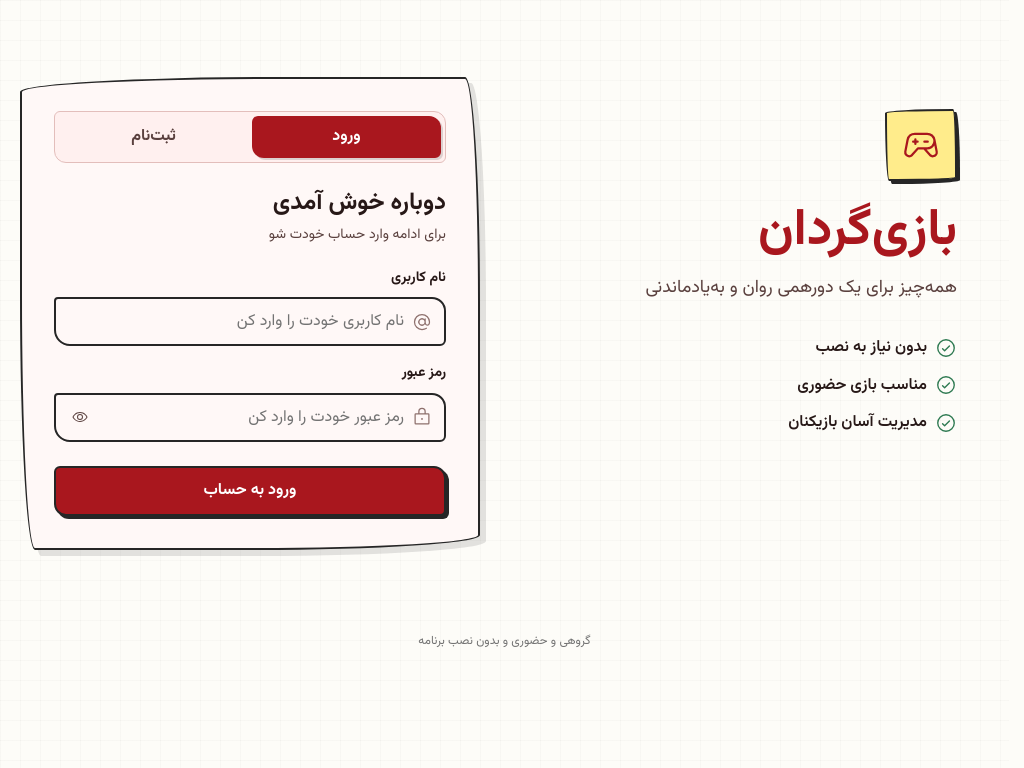
Test: AuthPage - login mode › shows the backend error banner for wrong credentials
Type "arshia_dev" into the field labelled "نام کاربری".
click(236, 322); type("arshia_dev")  # box [68,299,404,344]
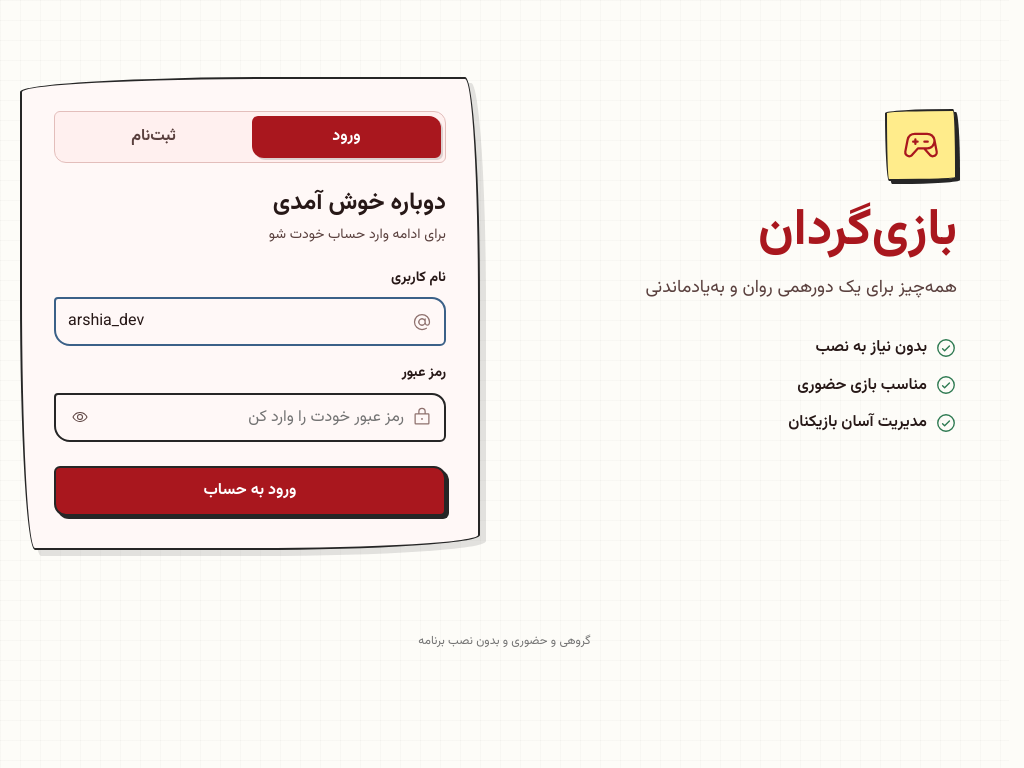
Type "wrongpassword" into the password field labelled "رمز عبور".
click(257, 417); type("wrongpassword")  # box [110,395,404,440]
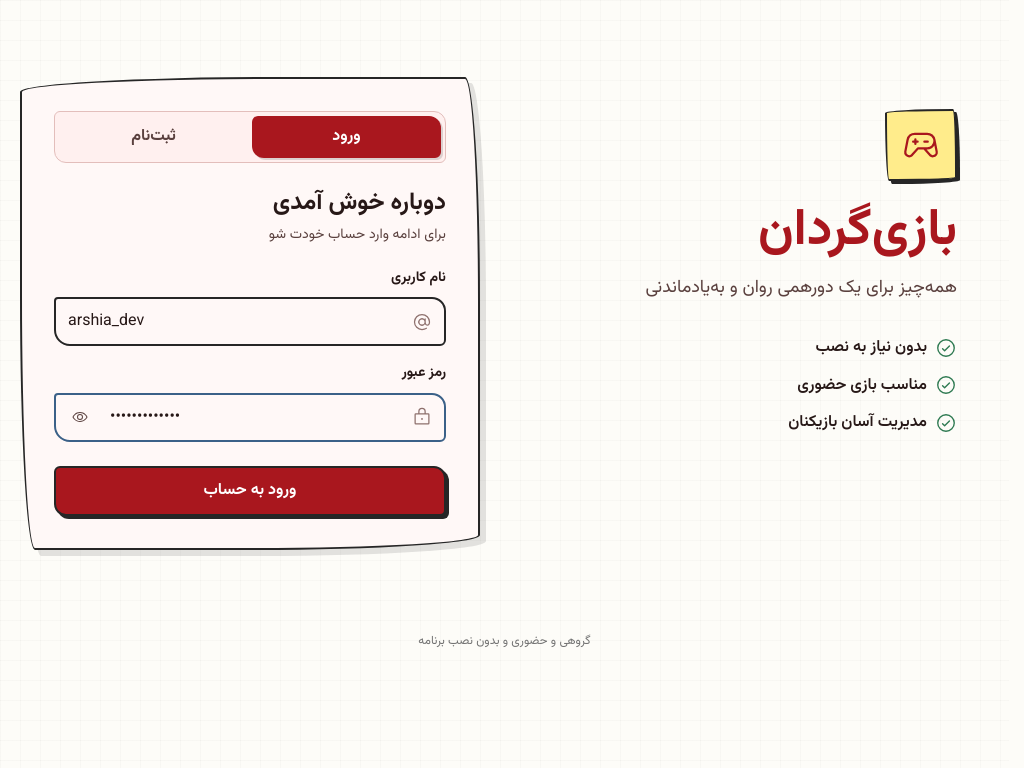
Click the button "ورود به حساب".
click(250, 491)  # box [54,466,446,516]
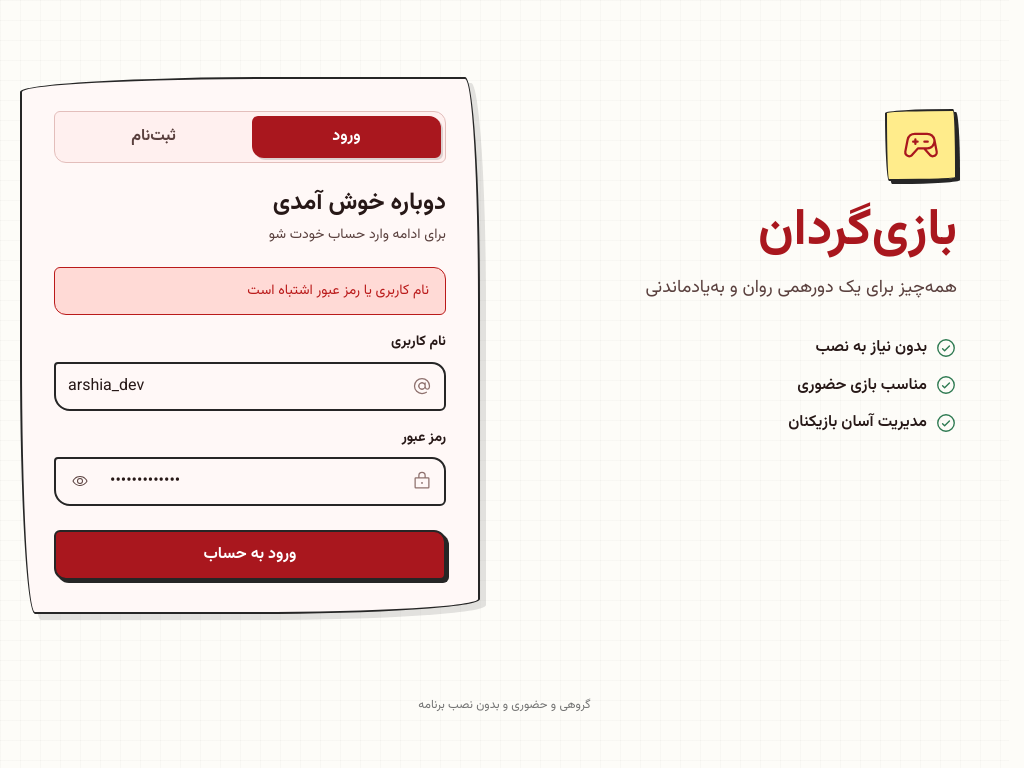
Result: the message reads "نام کاربری یا رمز عبور اشتباه است" at [247,280,429,302]
